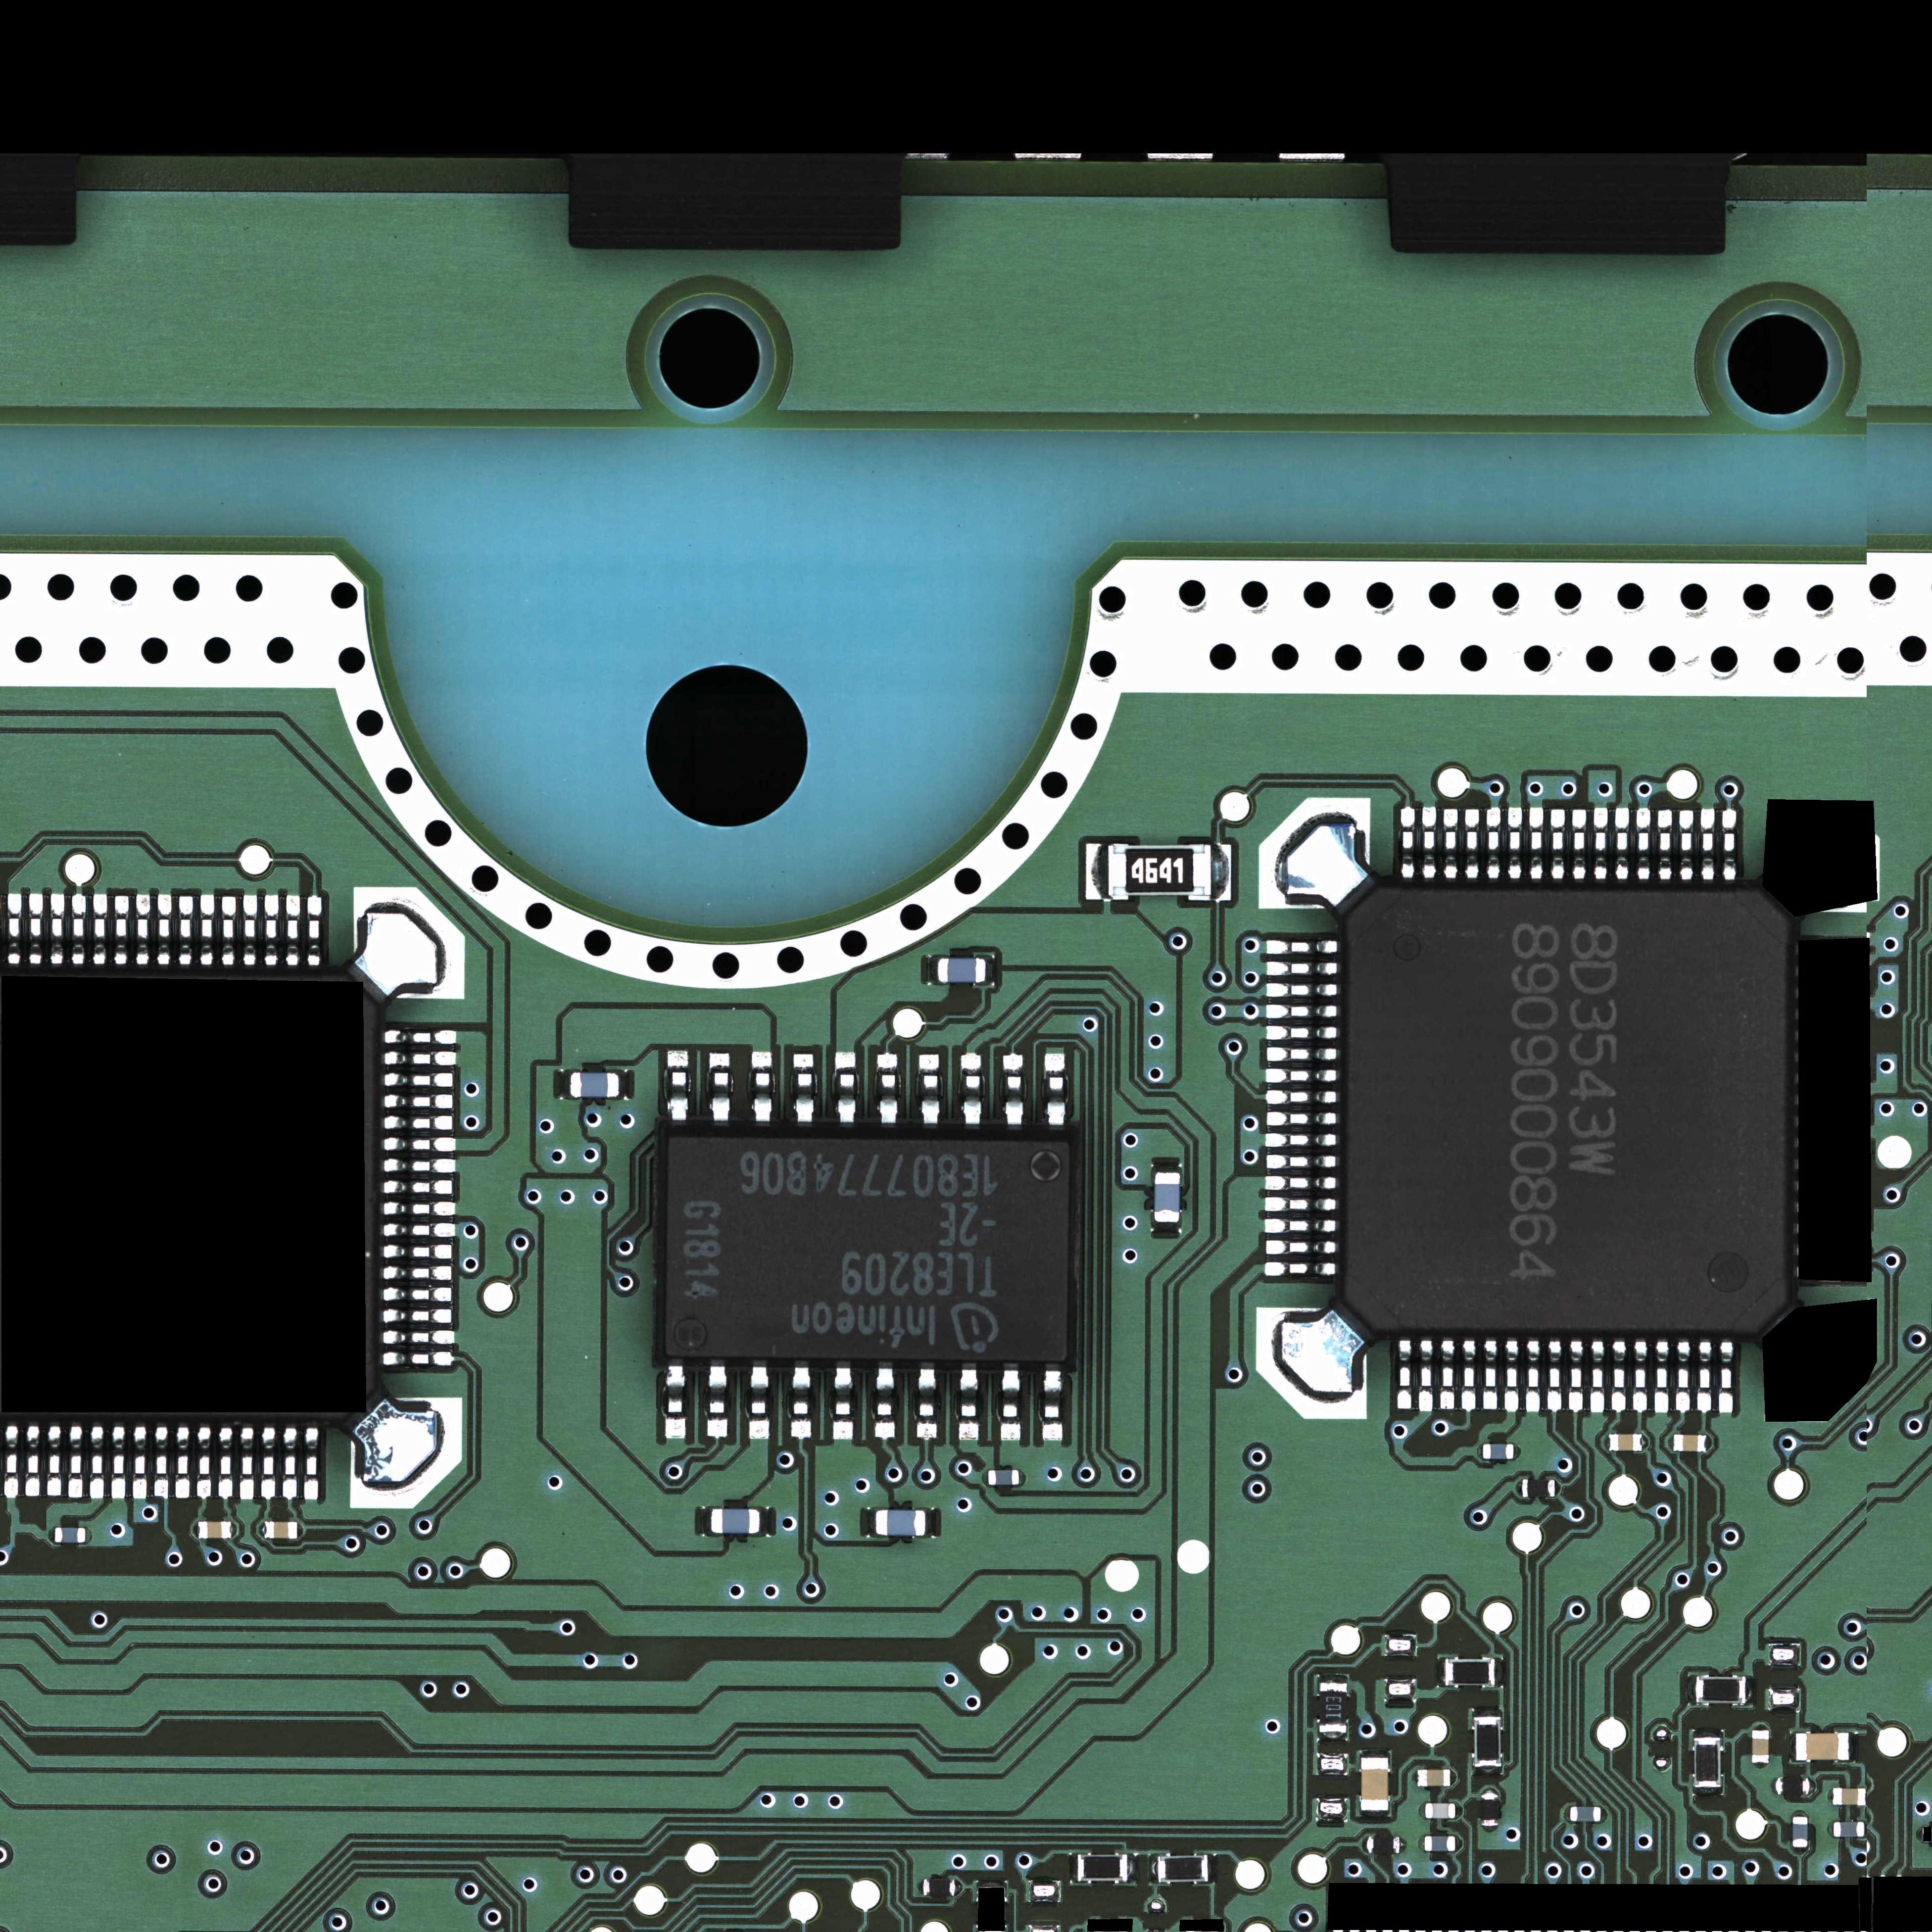Package: (1343, 888, 1787, 1332), (667, 1136, 1067, 1362), (1108, 844, 1212, 897), (1361, 1757, 1389, 1812), (1796, 1732, 1849, 1760), (1695, 1675, 1746, 1704), (1474, 1716, 1502, 1767), (1159, 1854, 1208, 1882), (1445, 1658, 1495, 1686), (1693, 1737, 1721, 1787), (1154, 1171, 1180, 1223), (1077, 1854, 1127, 1881), (876, 1509, 925, 1536), (1320, 1683, 1346, 1732), (571, 1072, 621, 1097), (711, 1509, 761, 1534), (938, 959, 985, 984), (1674, 1433, 1707, 1453), (1752, 1730, 1769, 1764), (1417, 1769, 1451, 1787), (1522, 1479, 1555, 1497), (1608, 1433, 1642, 1451), (198, 1522, 232, 1539), (264, 1522, 297, 1539), (1481, 1794, 1499, 1826), (924, 1879, 955, 1897), (1368, 1836, 1399, 1854), (1483, 1444, 1514, 1460), (55, 1527, 87, 1543), (1569, 1806, 1601, 1822), (1424, 1803, 1456, 1819), (1833, 1789, 1865, 1805), (1424, 1835, 1454, 1851), (1792, 1817, 1808, 1847), (1778, 1778, 1808, 1794), (989, 1470, 1019, 1484), (1835, 1822, 1865, 1836)
Solder: (354, 885, 465, 1000), (1258, 798, 1371, 908), (352, 1399, 462, 1511), (1258, 1307, 1366, 1419), (833, 1051, 858, 1125), (832, 1368, 856, 1442), (663, 1366, 686, 1440), (959, 1051, 982, 1125), (876, 1051, 899, 1123), (791, 1053, 814, 1125), (667, 1049, 690, 1122), (750, 1051, 773, 1123), (1001, 1053, 1024, 1125), (1000, 1369, 1023, 1442), (1040, 1369, 1063, 1442), (1044, 1053, 1067, 1125), (874, 1368, 895, 1442), (709, 1051, 731, 1123), (918, 1053, 939, 1125), (791, 1368, 812, 1440), (959, 1368, 980, 1440), (916, 1369, 938, 1440), (750, 1368, 770, 1442), (708, 1366, 727, 1440), (1086, 844, 1108, 901), (1212, 842, 1231, 902), (1484, 807, 1500, 879), (1396, 1339, 1412, 1410), (1267, 939, 1338, 955), (1267, 961, 1338, 977), (1267, 982, 1338, 998), (1267, 1024, 1338, 1040), (1265, 1067, 1336, 1083), (1265, 1088, 1336, 1104), (1265, 1175, 1336, 1191), (1265, 1154, 1336, 1169), (1267, 1003, 1336, 1019), (1267, 1046, 1336, 1062), (1267, 1132, 1336, 1148), (1267, 1111, 1336, 1127), (1529, 807, 1543, 879), (1697, 1341, 1711, 1414), (1654, 1341, 1668, 1414), (1675, 1341, 1690, 1414), (1546, 1339, 1560, 1412), (1504, 1339, 1518, 1412), (1461, 1339, 1476, 1412), (382, 1330, 455, 1345), (1637, 809, 1651, 879), (1615, 809, 1629, 879), (1594, 809, 1608, 879), (1573, 809, 1587, 879), (1507, 809, 1522, 879), (1633, 1341, 1647, 1412), (1612, 1341, 1626, 1412), (1591, 1341, 1605, 1412), (1525, 1341, 1539, 1412), (1440, 1339, 1454, 1410), (1419, 1339, 1433, 1410), (1265, 1219, 1336, 1233), (1265, 1240, 1336, 1254), (1265, 1198, 1336, 1212), (111, 1428, 126, 1499), (133, 1428, 147, 1499), (283, 1428, 297, 1499), (304, 1428, 318, 1499), (386, 1030, 456, 1044), (386, 1051, 456, 1065), (384, 1223, 455, 1237), (384, 1201, 455, 1215), (384, 1136, 455, 1150), (1721, 810, 1736, 879), (1700, 810, 1714, 879), (1679, 810, 1693, 879), (1658, 810, 1672, 879), (1401, 809, 1415, 878), (1422, 809, 1437, 878), (1444, 809, 1458, 878), (1465, 809, 1479, 878), (1483, 1341, 1497, 1410), (1265, 1261, 1334, 1276), (7, 893, 21, 962), (73, 895, 87, 964), (136, 895, 150, 964), (157, 895, 172, 964), (221, 895, 235, 964), (200, 895, 214, 964), (48, 1428, 62, 1497), (69, 1428, 83, 1497), (384, 1095, 453, 1109), (384, 1116, 453, 1131), (384, 1074, 453, 1088), (384, 1246, 453, 1260), (386, 1157, 455, 1171), (384, 1180, 453, 1194), (384, 1352, 453, 1366), (384, 1288, 451, 1302), (384, 1309, 451, 1323), (1720, 1341, 1732, 1414), (1569, 1341, 1582, 1414), (90, 1426, 103, 1499), (5, 1426, 18, 1499), (1552, 809, 1564, 879), (156, 1428, 168, 1499), (177, 1428, 189, 1499), (198, 1428, 211, 1499), (241, 1428, 253, 1499), (30, 895, 42, 964), (51, 893, 64, 962), (94, 893, 106, 962), (115, 895, 127, 964), (265, 895, 278, 964), (308, 895, 320, 964), (287, 895, 299, 964), (244, 895, 257, 964), (179, 895, 191, 964), (27, 1426, 39, 1495), (219, 1428, 232, 1497), (262, 1428, 274, 1497), (384, 1267, 451, 1279), (557, 1069, 570, 1099), (985, 954, 996, 987), (1693, 1787, 1723, 1798), (1148, 1852, 1159, 1882), (619, 1070, 630, 1097), (701, 1509, 711, 1536), (761, 1509, 771, 1536), (1691, 1729, 1723, 1737), (1359, 1748, 1391, 1757), (1495, 1656, 1504, 1688), (1437, 1656, 1445, 1686), (1686, 1675, 1695, 1706), (867, 1507, 876, 1537), (1318, 1674, 1348, 1683), (1127, 1852, 1136, 1882), (1069, 1852, 1077, 1882), (1474, 1767, 1502, 1776), (1474, 1707, 1502, 1716), (1359, 1812, 1391, 1819), (1150, 1164, 1182, 1171), (1150, 1223, 1182, 1230), (1851, 1732, 1858, 1762), (931, 955, 938, 985), (1208, 1854, 1215, 1884), (927, 1509, 934, 1537), (1746, 1675, 1753, 1704), (1789, 1734, 1796, 1762), (1320, 1732, 1348, 1739), (955, 1879, 964, 1897), (978, 1881, 1007, 1886), (916, 1879, 924, 1897), (1019, 1468, 1026, 1486), (1451, 1769, 1458, 1787), (1792, 1849, 1810, 1856), (1555, 1479, 1562, 1497), (1916, 1826, 1923, 1844), (87, 1527, 94, 1543), (48, 1527, 55, 1543), (1483, 1787, 1499, 1794), (1483, 1826, 1499, 1833), (1417, 1836, 1424, 1852), (1401, 1836, 1408, 1852), (1792, 1810, 1808, 1817), (1642, 1435, 1649, 1451), (1514, 1444, 1522, 1460), (1476, 1444, 1483, 1460), (1601, 1806, 1608, 1822), (1808, 1778, 1815, 1794), (1826, 1822, 1833, 1838), (232, 1523, 239, 1537), (297, 1523, 304, 1537), (1454, 1836, 1461, 1851), (1753, 1723, 1767, 1730), (1828, 1787, 1833, 1805), (193, 1523, 198, 1539), (982, 1470, 987, 1486), (1362, 1836, 1368, 1852), (1419, 1803, 1424, 1819), (1753, 1764, 1769, 1769), (1707, 1435, 1713, 1451), (1516, 1479, 1522, 1495), (1564, 1806, 1569, 1822), (258, 1523, 264, 1537), (1603, 1435, 1608, 1449), (1456, 1805, 1461, 1817), (1414, 1769, 1417, 1787), (1668, 1435, 1672, 1451), (1775, 1778, 1778, 1794)
